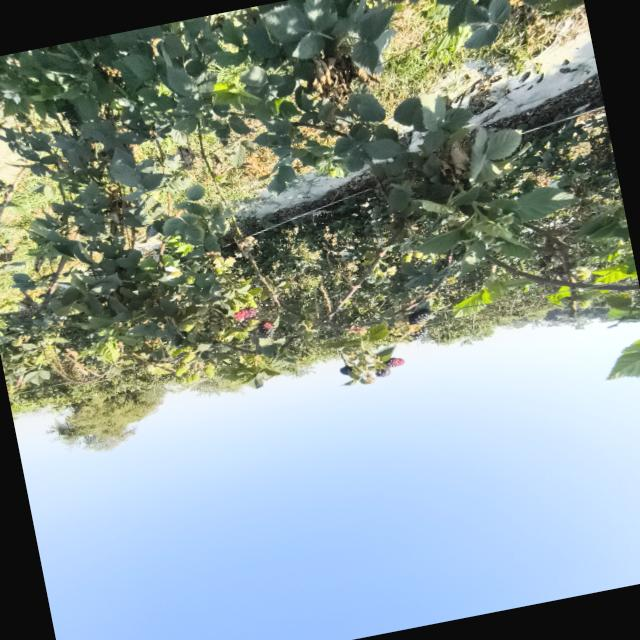maduro: (408, 308, 433, 325), (411, 326, 428, 339), (375, 368, 391, 377)
marron: (234, 307, 257, 320), (258, 321, 275, 338), (385, 358, 404, 368)
